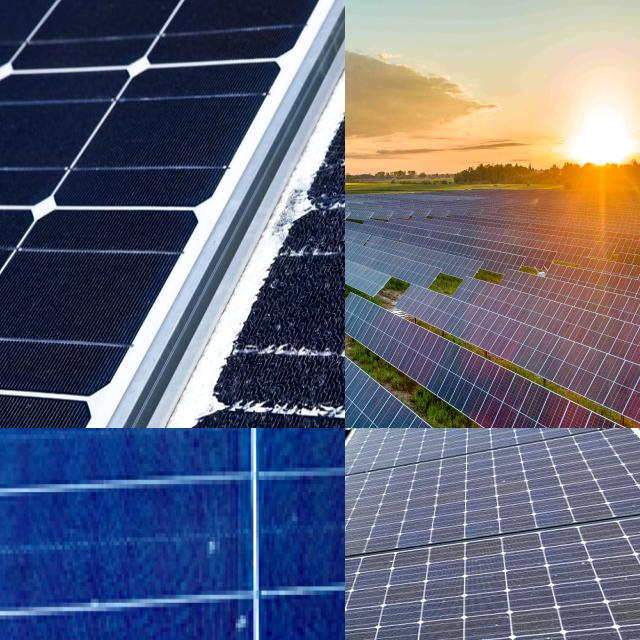dust: (356, 428, 630, 553), (511, 541, 640, 640), (346, 558, 490, 640)
hotspot: (262, 176, 345, 252)
